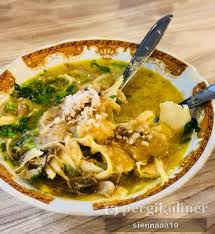soto: (2, 13, 215, 216)
